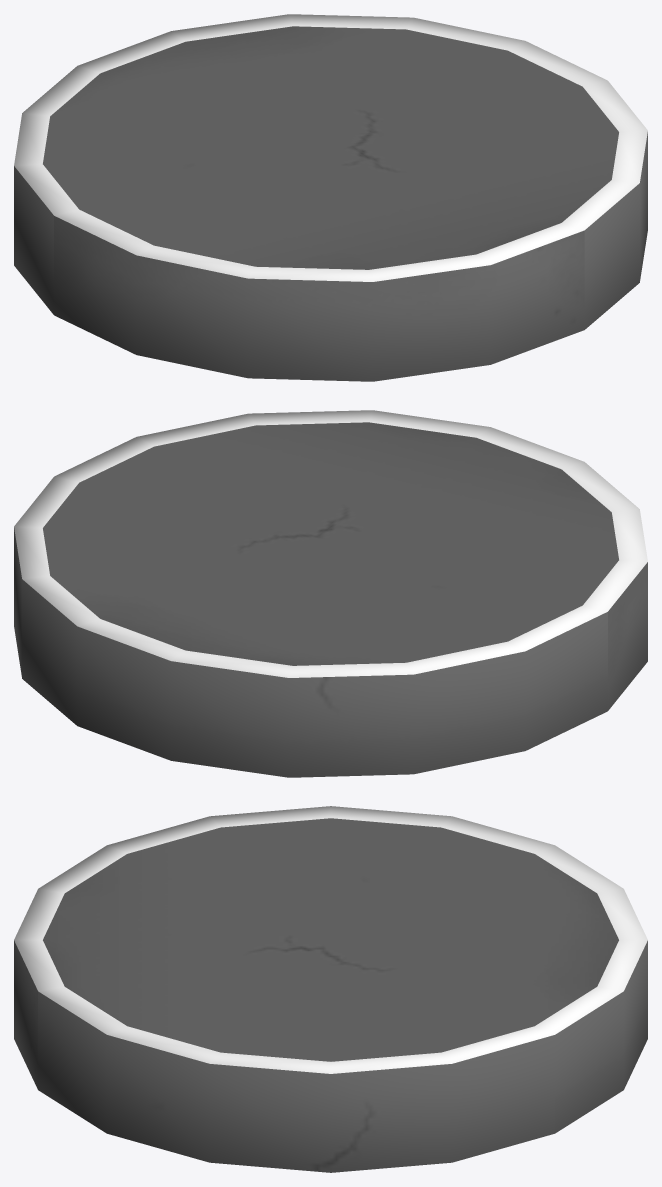
Rendered from TurnTable.fbx.
The picture shows the model from 3 angles, top to bottom: view 1: azimuth 30°, elevation 25°; view 2: azimuth 150°, elevation 25°; view 3: azimuth 270°, elevation 25°; orthographic projection.
Parts seen in each view (by area): view 1: TurnTable; view 2: TurnTable; view 3: TurnTable.
Boxes of the visible parts, x1,y1,x2,y2 form: TurnTable: (14, 14, 647, 381); TurnTable: (14, 410, 647, 777); TurnTable: (14, 806, 647, 1172).
Size of the model in its own units: 3.9 by 0.6709 by 3.9.
